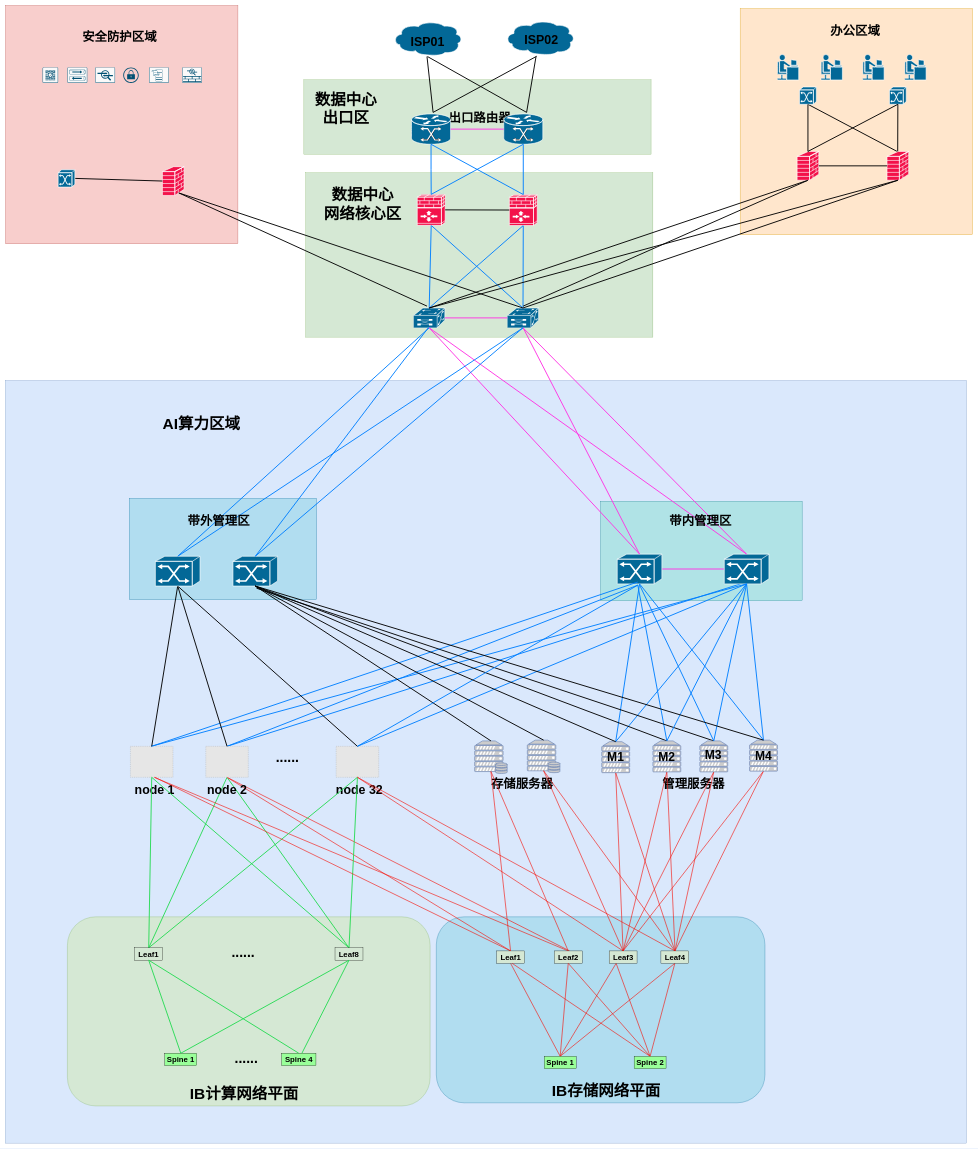
Image size: 978x1149. Some labels were removed from this diagram. Grey dashed boxes stand in for pictures. Each missing label, with the centre of its shape:
S1: the point at 490,757
S2: the point at 543,756
